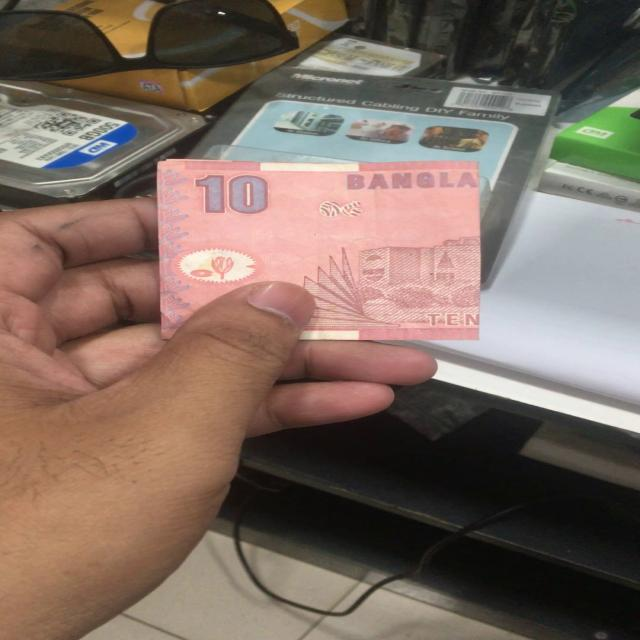Taka: (164, 162, 480, 336)
